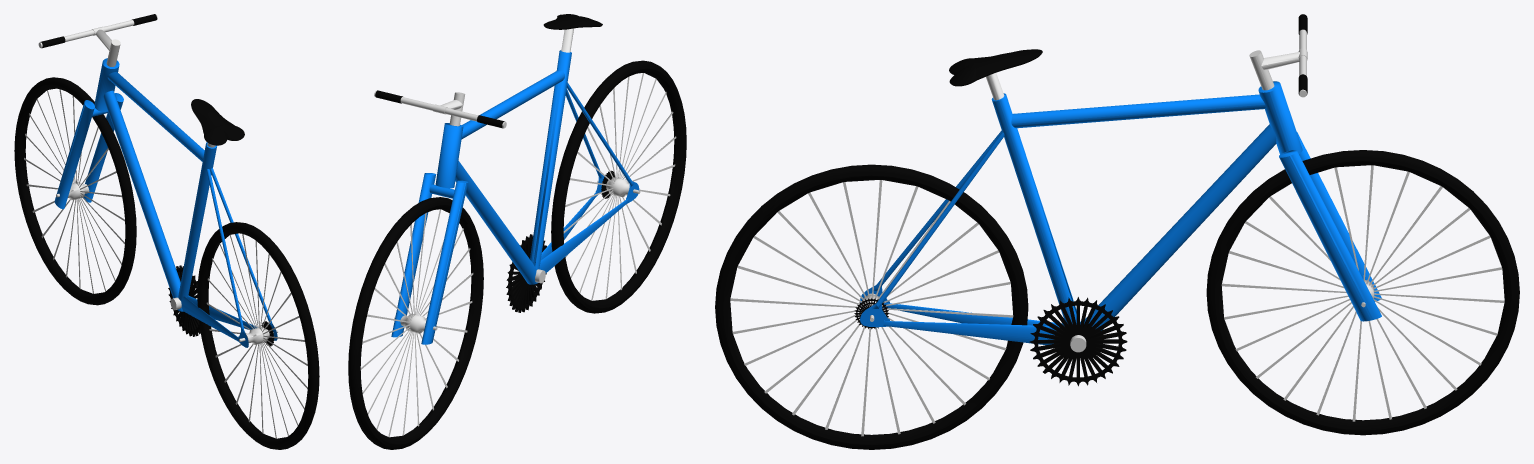
Rendered from sepeda.glb.
The picture shows the model from 3 angles, left to right: view 1: azimuth 30°, elevation 25°; view 2: azimuth 150°, elevation 25°; view 3: azimuth 270°, elevation 25°; orthographic projection. The views are drawn at different scales.
Visible parts, largest first — view 1: Cylinder.002; view 2: Cylinder.002; view 3: Cylinder.002.
Boxes of the visible parts, bbox=[...] form: Cylinder.002: bbox=[14, 14, 319, 449]; Cylinder.002: bbox=[348, 14, 686, 449]; Cylinder.002: bbox=[715, 14, 1519, 449].
Size of the model in its own units: 0.6497 by 1.58 by 2.89.
